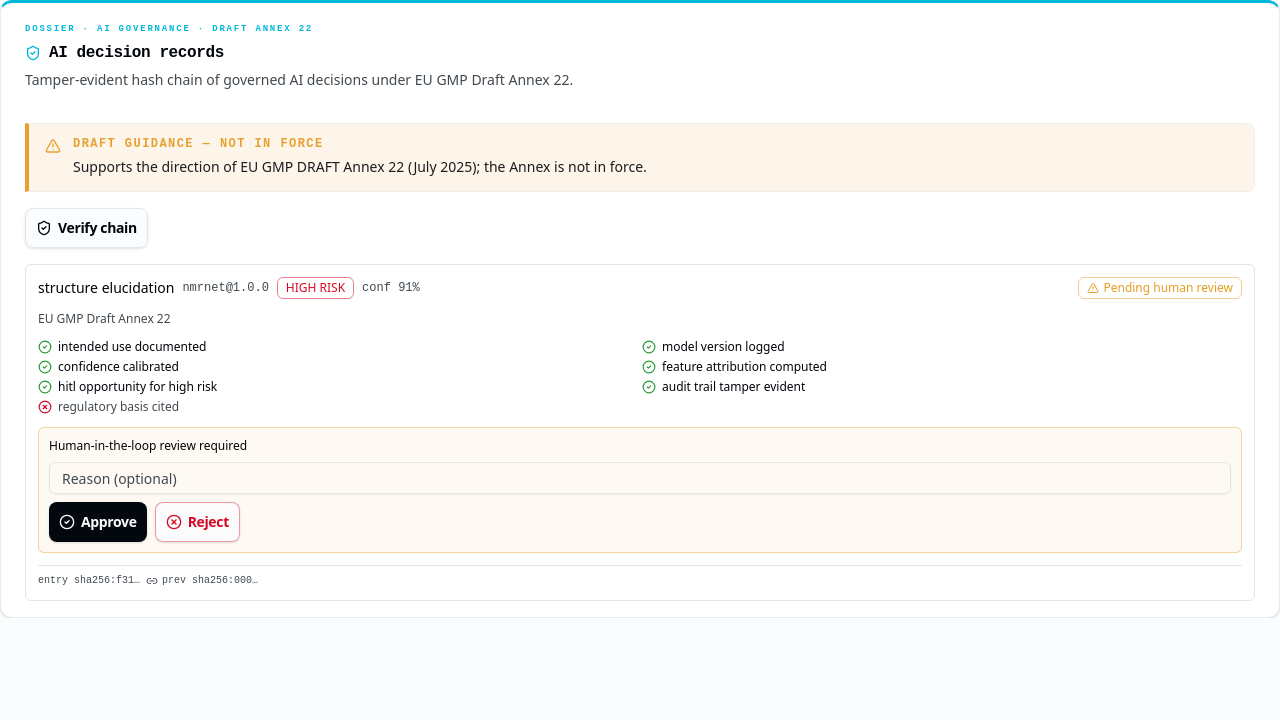
Test case: DossierAIDecisionsPanel › verifies the chain and shows the ok state
This screenshot has width=1280, height=720.
Click the button "Verify chain" at (86, 228), box top-left (25, 208), bottom-right (148, 248)
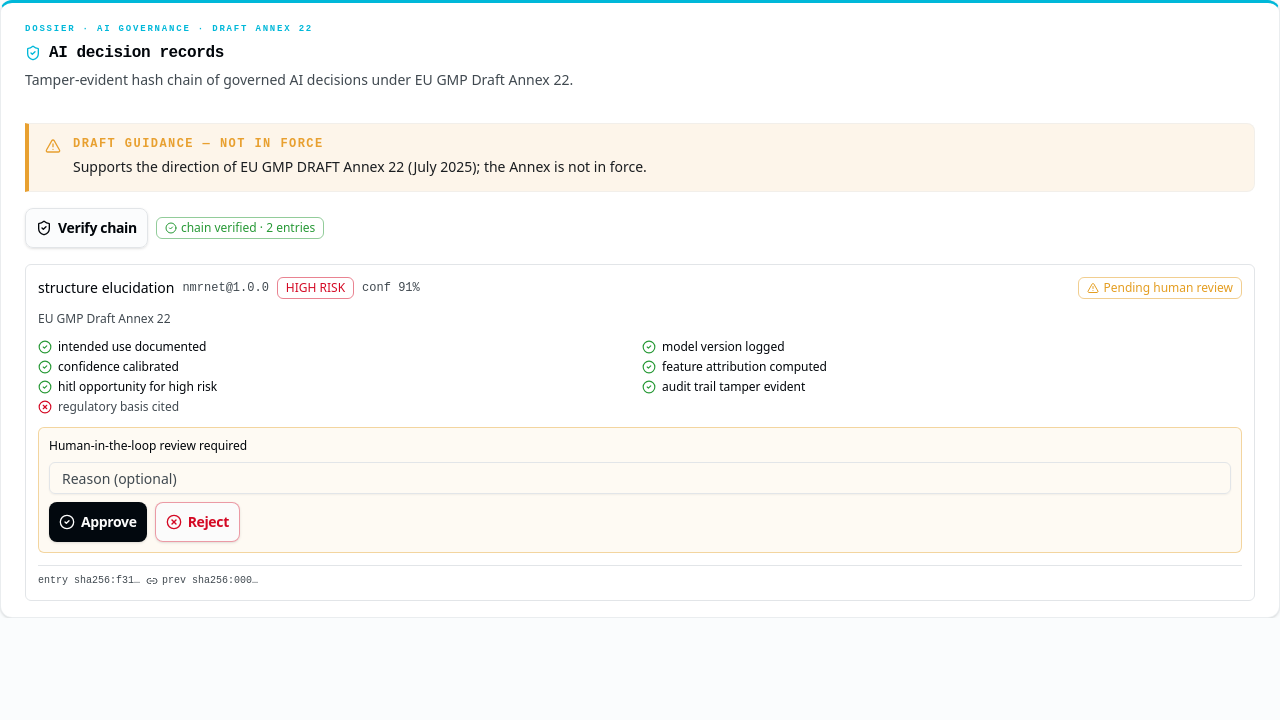
Now the text "chain verified · 2 entries" is shown, box top-left (156, 217), bottom-right (324, 239)
